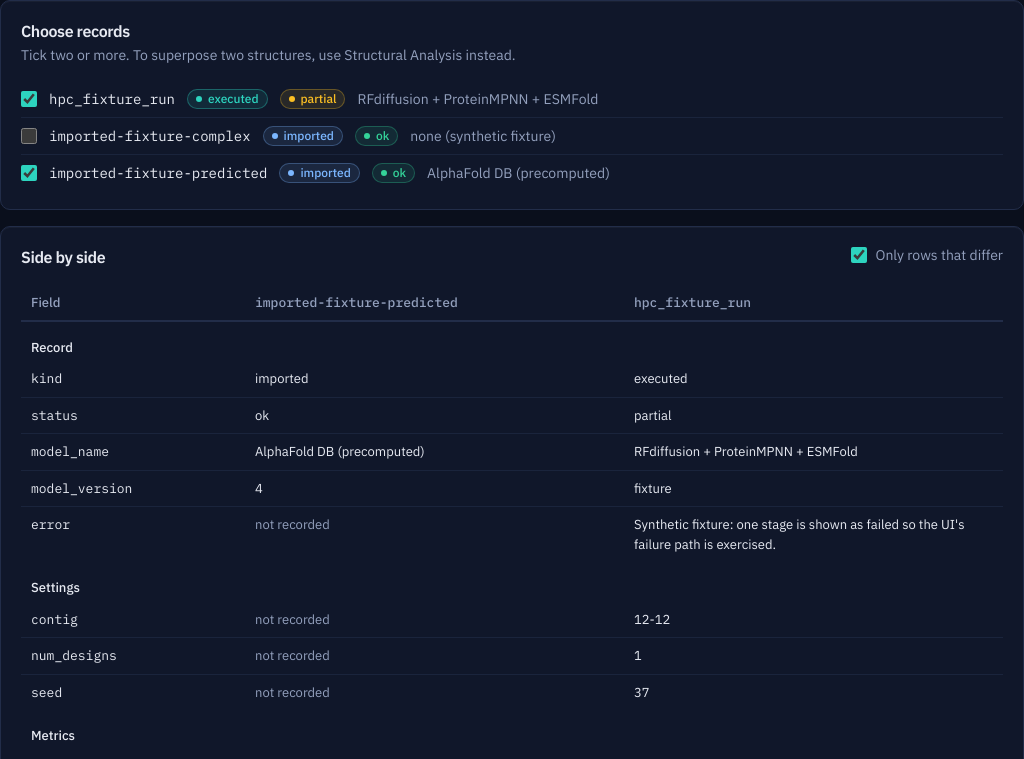
Scenario: ExperimentComparison › can show every row, marking which differ in words
Check: the heading "Side by side" is shown, box x1=21 y1=245 x2=105 y2=269
What coordinates should you click on to do the following:
click the checkbox labelled "Only rows that differ"
I would click on:
 (860, 255)
Its box is x1=852 y1=247 x2=868 y2=263.
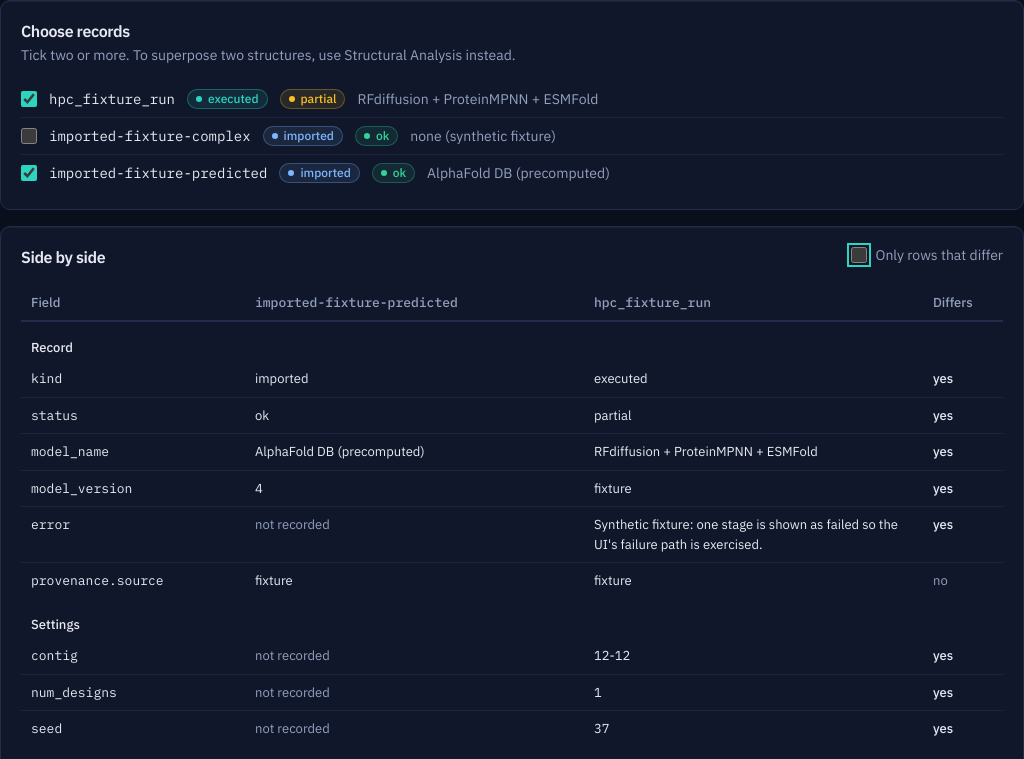
Check: the column headings read "Field", "imported-fixture-predicted", "hpc_fixture_run", "Differs", in this order, box x1=21 y1=285 x2=245 y2=321; x1=245 y1=285 x2=584 y2=321; x1=584 y1=285 x2=923 y2=321; x1=923 y1=285 x2=1003 y2=321
Check: the 1st cell "yes" is shown, box x1=923 y1=361 x2=1003 y2=397
